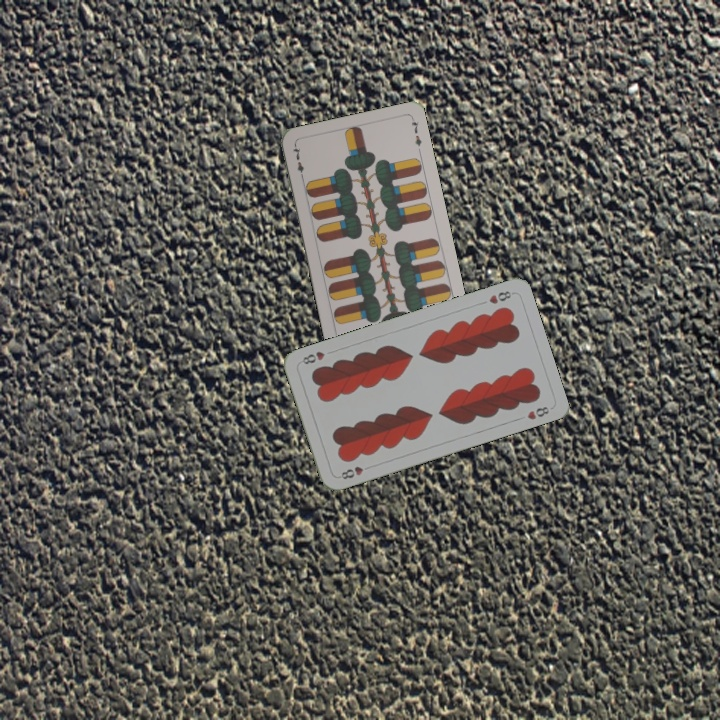E7: (289, 142, 307, 182)
H8: (337, 461, 374, 482), (485, 287, 516, 307)
